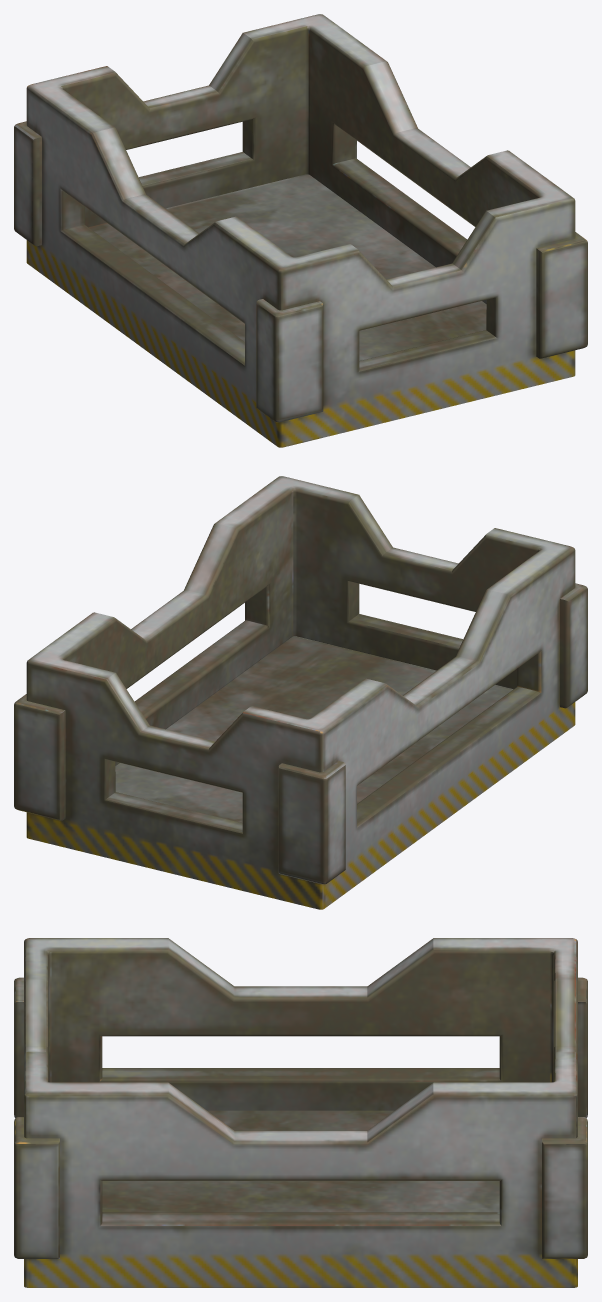
Rendered from SM_Crates_LP_pCube7.fbx.
The picture shows the model from 3 angles, top to bottom: view 1: azimuth 30°, elevation 25°; view 2: azimuth 150°, elevation 25°; view 3: azimuth 270°, elevation 25°; orthographic projection. The views are drawn at different scales.
Visible parts, largest first — view 1: SM_Crates_LP_pCube7_LOD0; view 2: SM_Crates_LP_pCube7_LOD0; view 3: SM_Crates_LP_pCube7_LOD0.
Part boxes in pixels (box(x1,y1,x2,y2)): SM_Crates_LP_pCube7_LOD0: box(14, 14, 587, 447); SM_Crates_LP_pCube7_LOD0: box(14, 476, 587, 909); SM_Crates_LP_pCube7_LOD0: box(14, 938, 587, 1287).
Size of the model in its own units: 73.75 by 108 by 40.
1 material, 1 textured.
